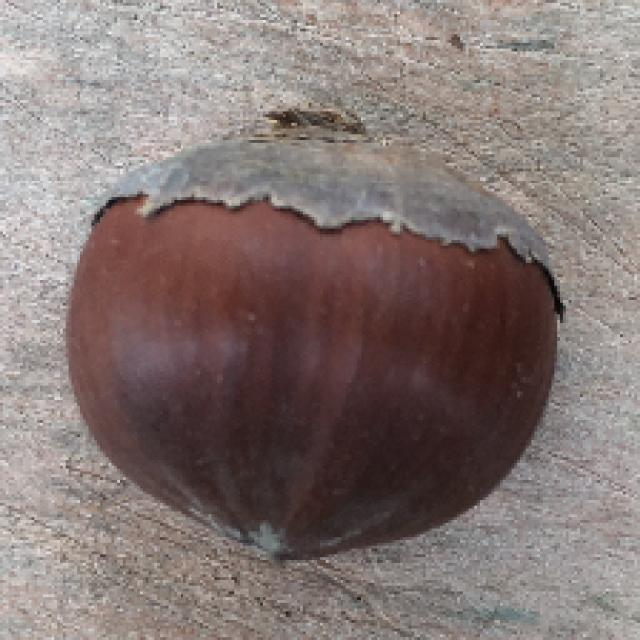damagedHazelnut: (52, 118, 570, 563)
